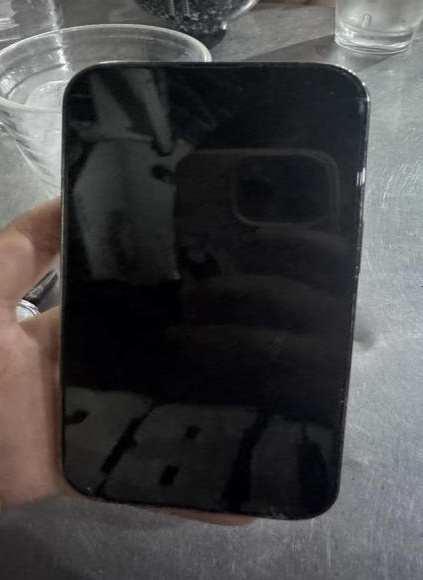physical_damage: (312, 60, 375, 122), (64, 467, 113, 514), (247, 494, 303, 526)
